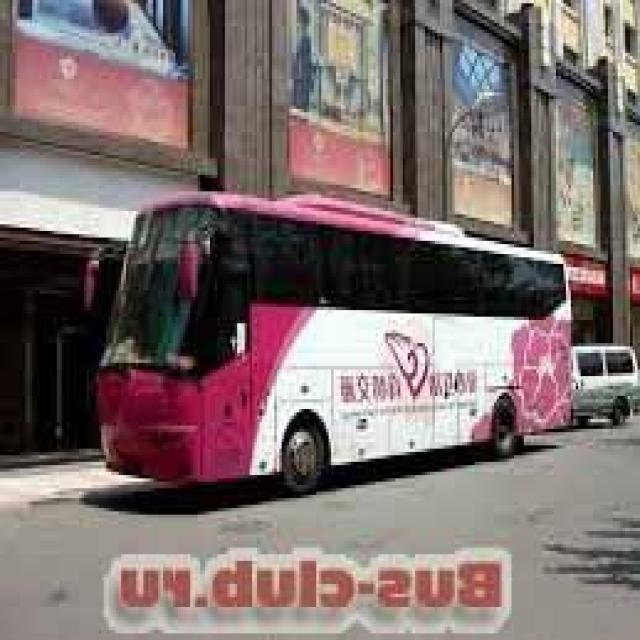bus: (45, 172, 592, 510)
